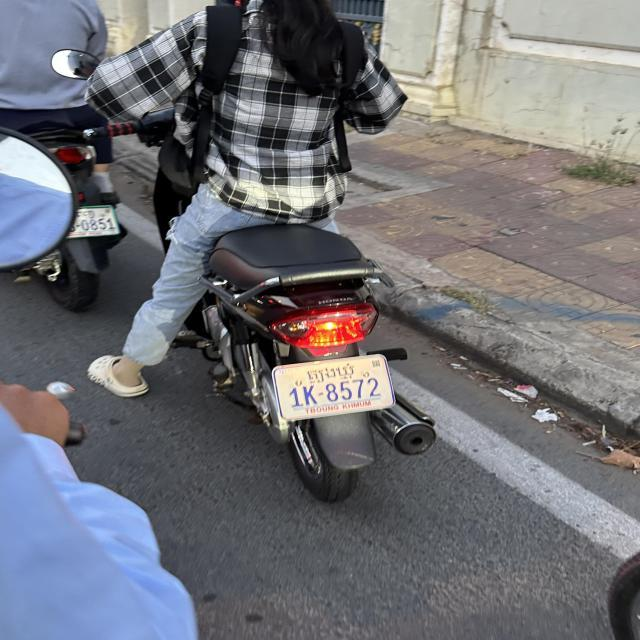Tboung_Khmum: (304, 359, 360, 382)
